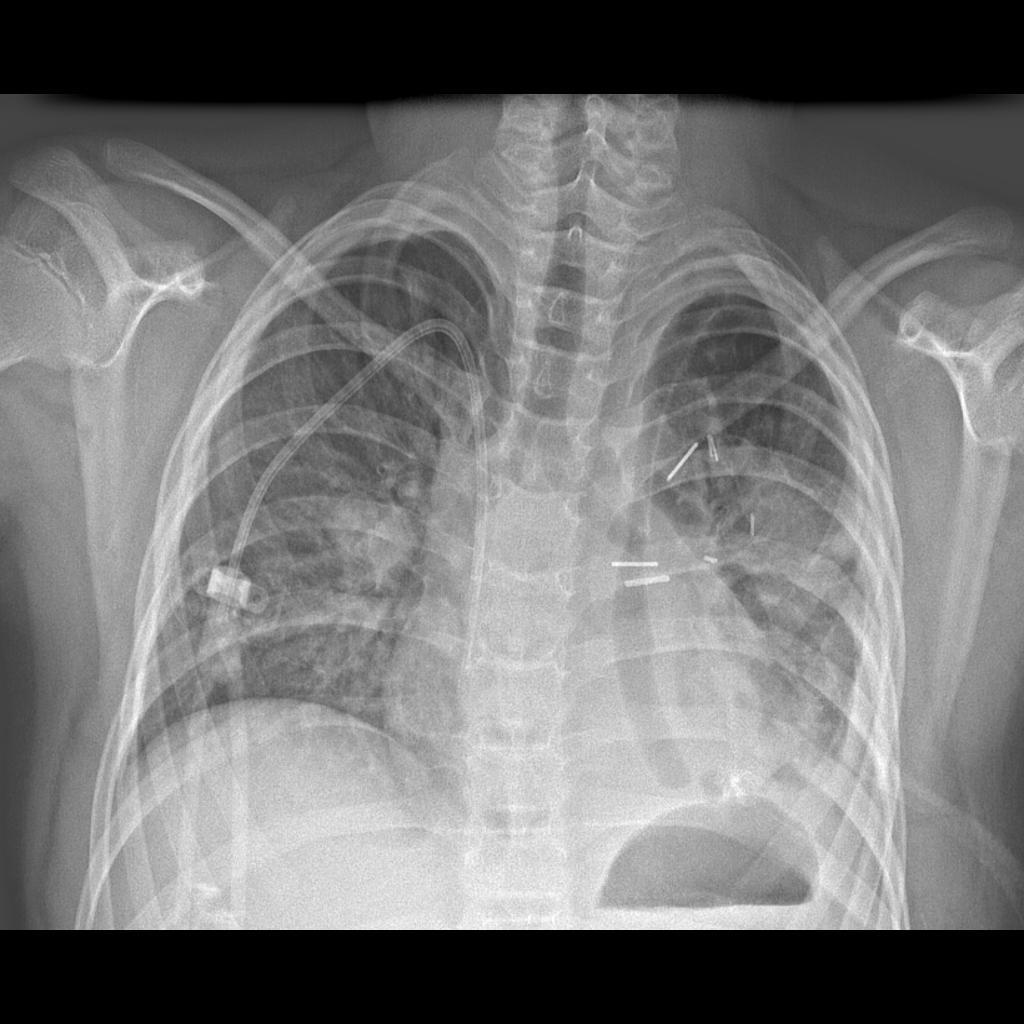Nodule: (321, 481, 414, 601), (821, 523, 868, 574)
